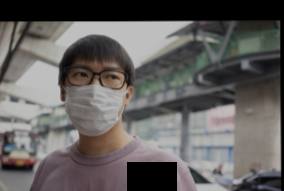with_mask: (63, 61, 127, 137)
